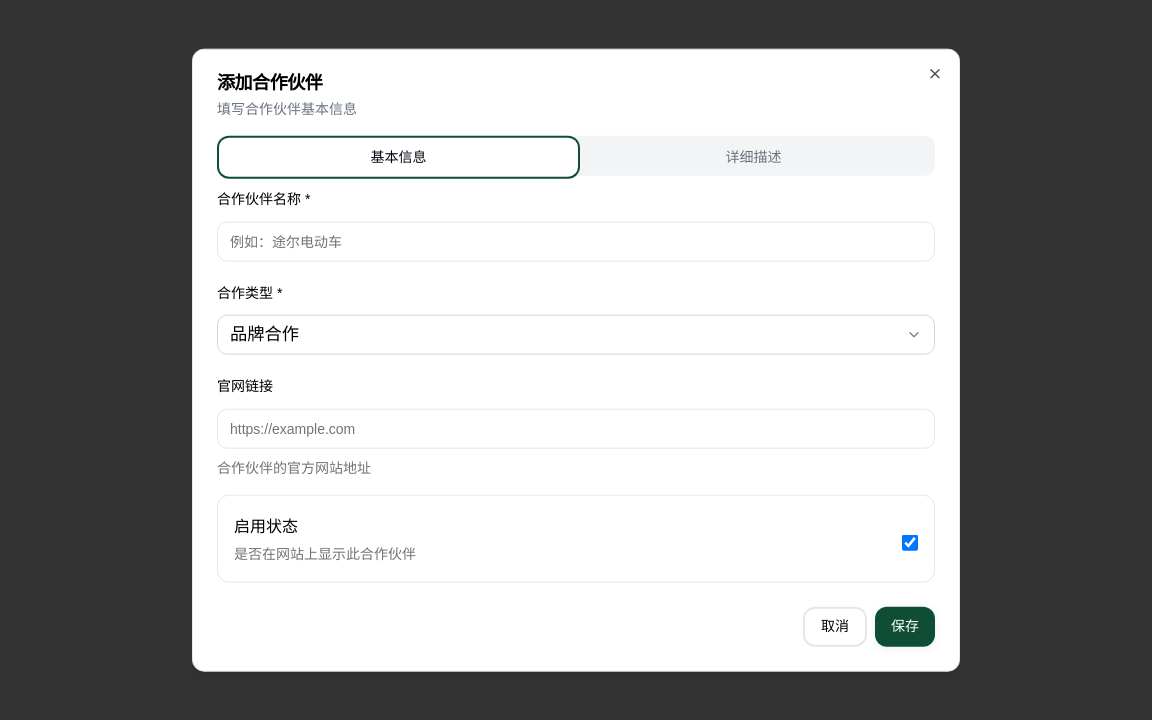
Scenario: PartnerEditor - Form Validation Tests (Requirements 10.2) › Tab Navigation › should switch to description tab when clicked
Press the mouse on the tab "详细描述" at (754, 157), box [576,140,931,174]
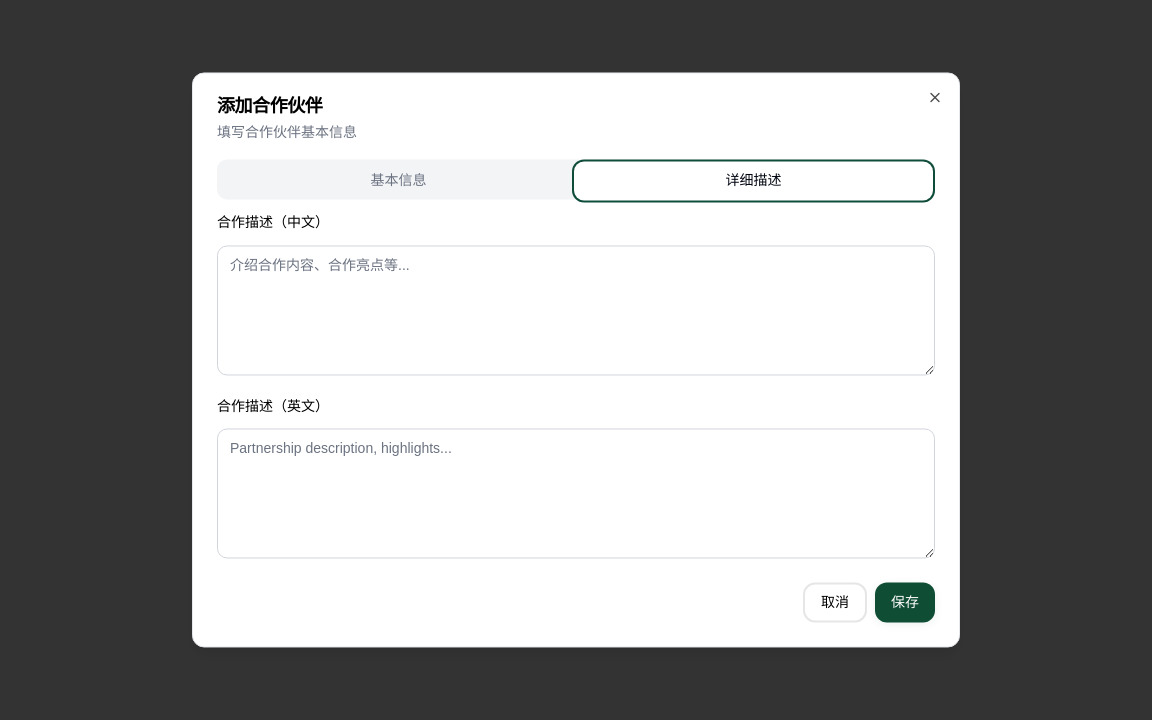
Expected: the text box with placeholder "介绍合作内容、合作亮点等..." is shown, [217,245,935,375]
